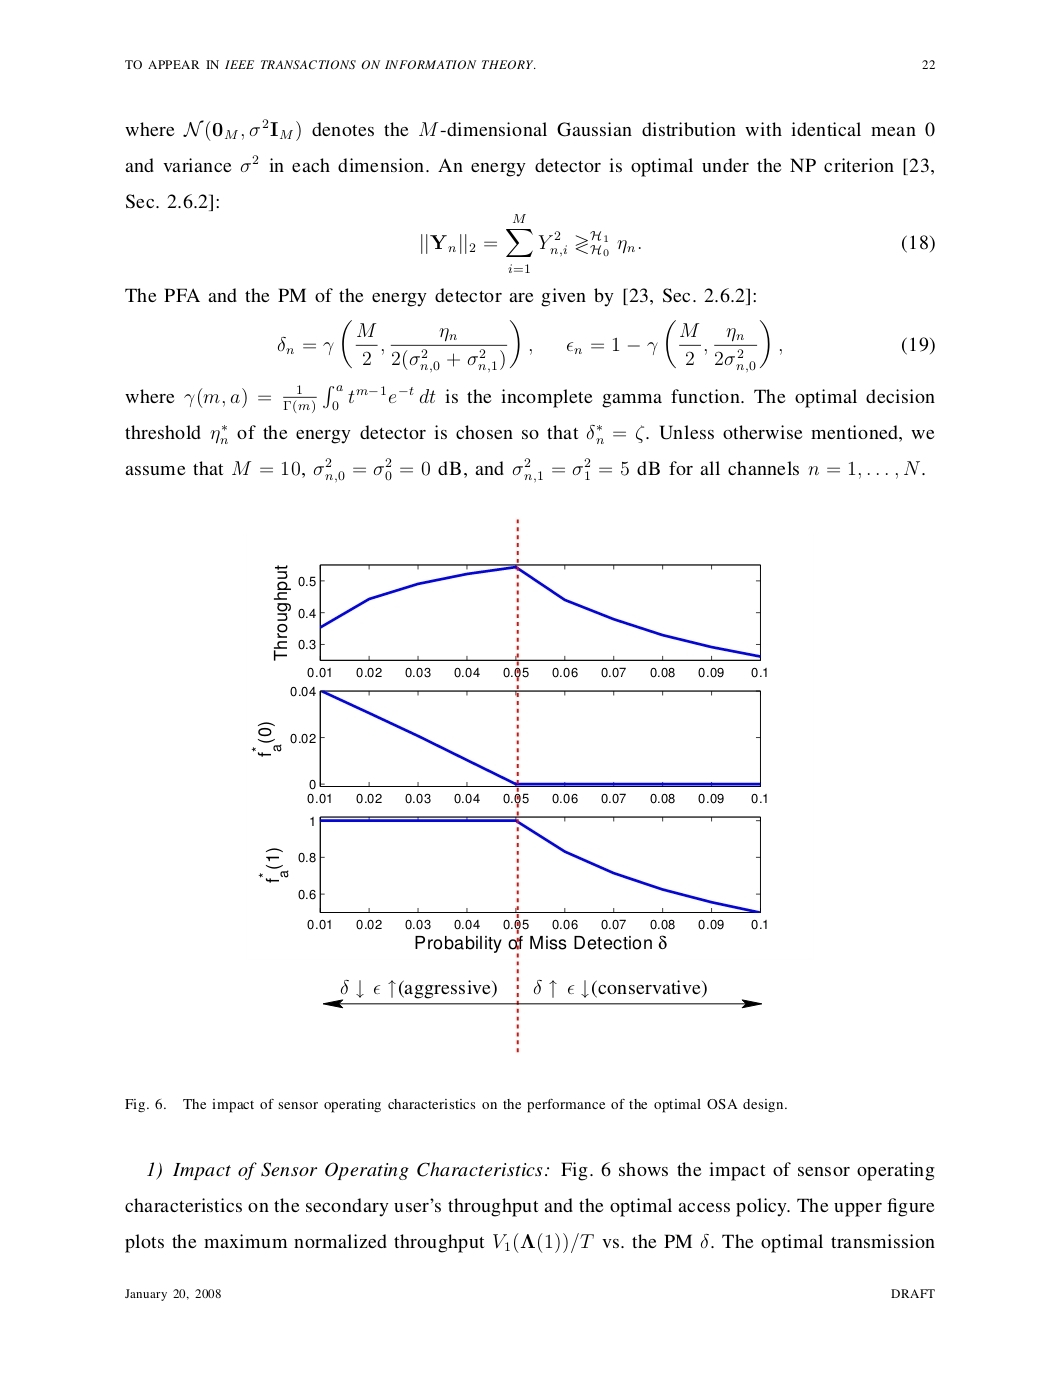figure: (251, 519, 766, 1052)
formula: (278, 319, 934, 373), (421, 214, 934, 272)
